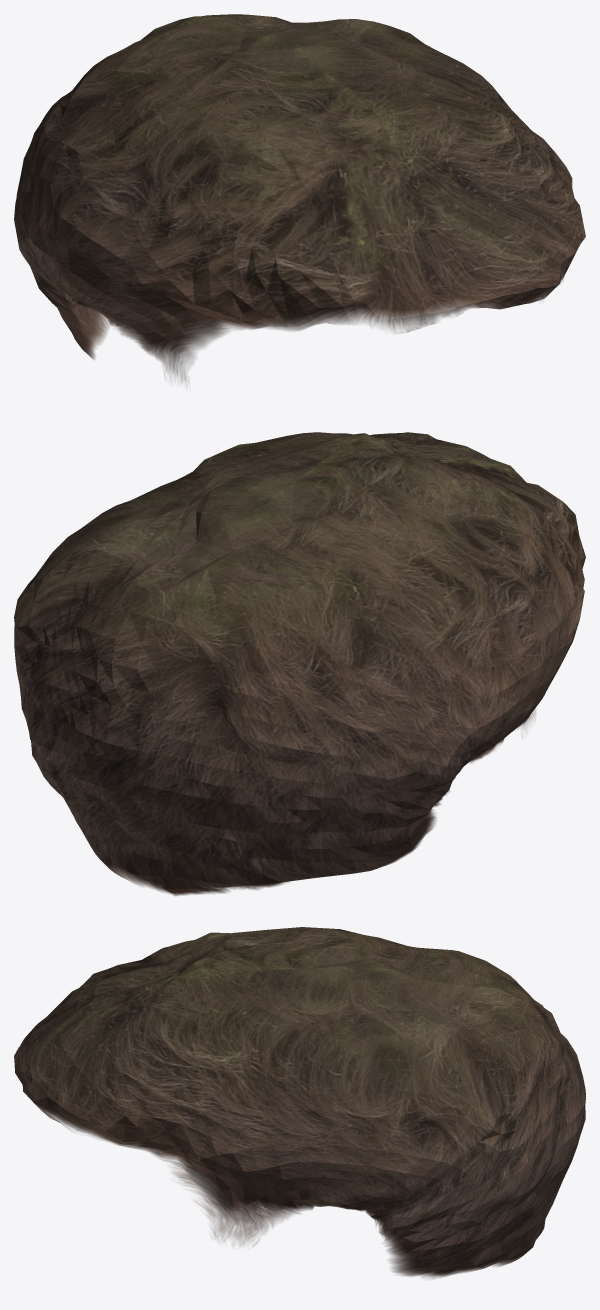
Rendered from buzz-cut-cc0.glb.
The picture shows the model from 3 angles, top to bottom: view 1: azimuth 30°, elevation 25°; view 2: azimuth 150°, elevation 25°; view 3: azimuth 270°, elevation 25°; orthographic projection. The views are drawn at different scales.
Parts seen in each view (by area): view 1: Node; view 2: Node; view 3: Node.
Part boxes in pixels (x1=…): Node: x1=14, y1=14, x2=585, y2=381; Node: x1=14, y1=432, x2=585, y2=895; Node: x1=14, y1=927, x2=585, y2=1278.
Bounding box in the file's own units: 1.65 × 1.11 × 2.05.
1 material, 1 textured.
